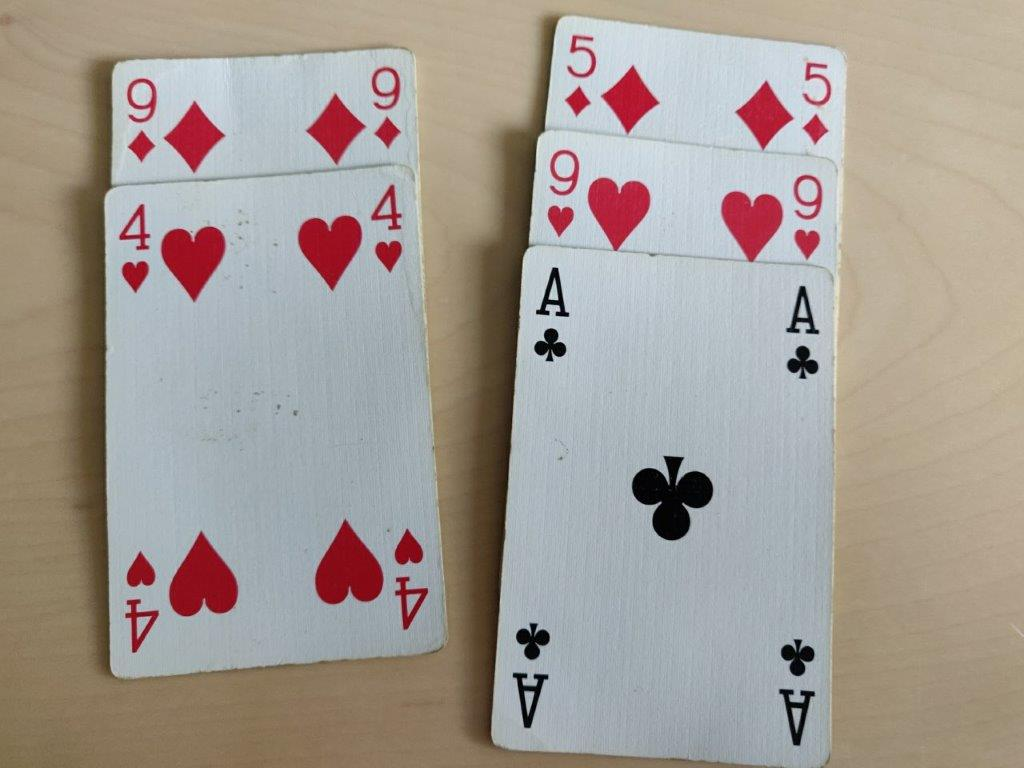4H: (112, 196, 162, 295), (363, 178, 413, 277)
5D: (555, 23, 601, 127), (794, 50, 840, 154)
9D: (120, 66, 162, 174), (367, 56, 409, 164)
9H: (535, 146, 583, 244), (785, 168, 833, 266)
AC: (524, 263, 577, 364), (780, 282, 833, 383)
